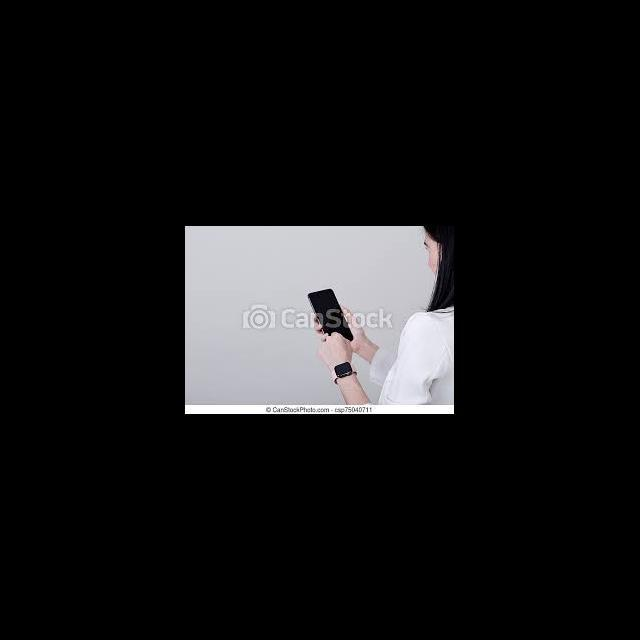smart phone: (298, 268, 357, 344)
watch: (333, 360, 372, 397)
